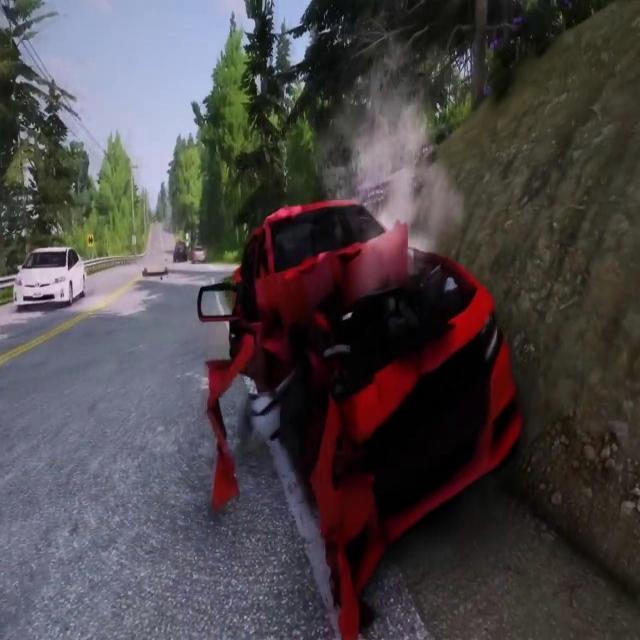vehicle: (192, 168, 516, 634)
